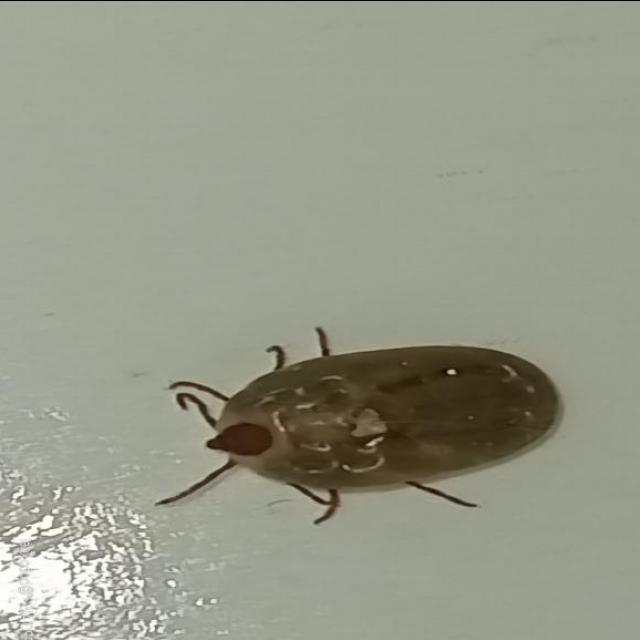Rhipicephalus Sanguineus-F-Fed: (153, 326, 564, 524)
